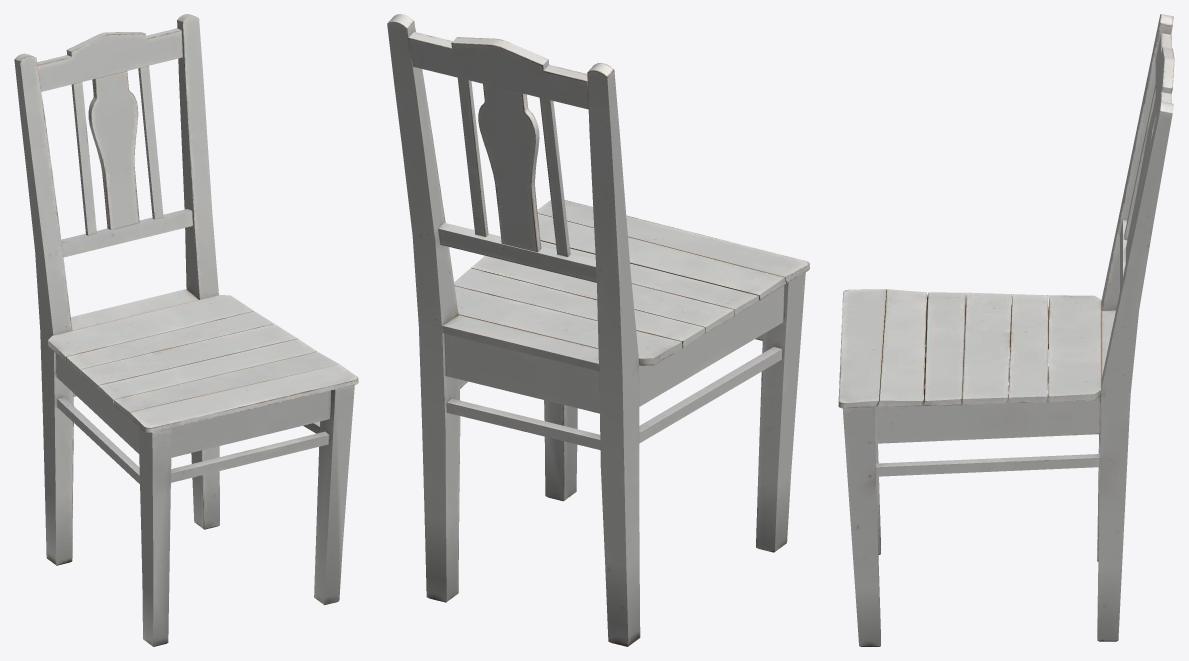
File: painted_wooden_chair_01.glb
The picture shows the model from 3 angles, left to right: view 1: azimuth 30°, elevation 25°; view 2: azimuth 150°, elevation 25°; view 3: azimuth 270°, elevation 25°; orthographic projection. The views are drawn at different scales.
Visible parts, largest first — view 1: painted_wooden_chair_01; view 2: painted_wooden_chair_01; view 3: painted_wooden_chair_01.
Boxes of the visible parts, x1,y1,x2,y2 form: painted_wooden_chair_01: (14,14,358,646); painted_wooden_chair_01: (387,14,809,646); painted_wooden_chair_01: (838,14,1174,646).
Bounding box in the file's own units: 0.4317 × 0.9565 × 0.5398.
1 material, 1 textured.
